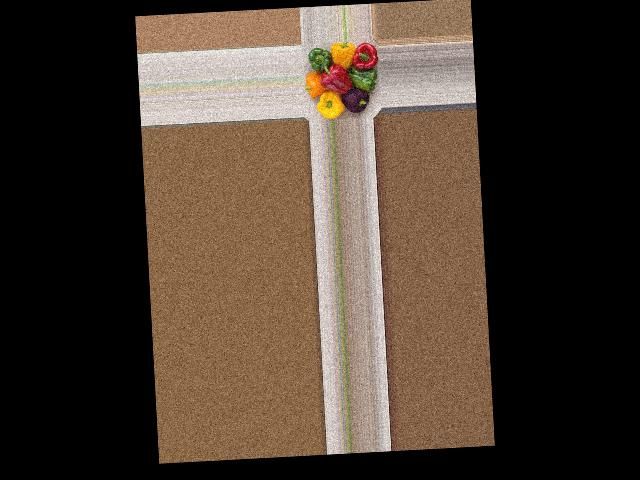bell_pepper: (340, 81, 376, 112)
